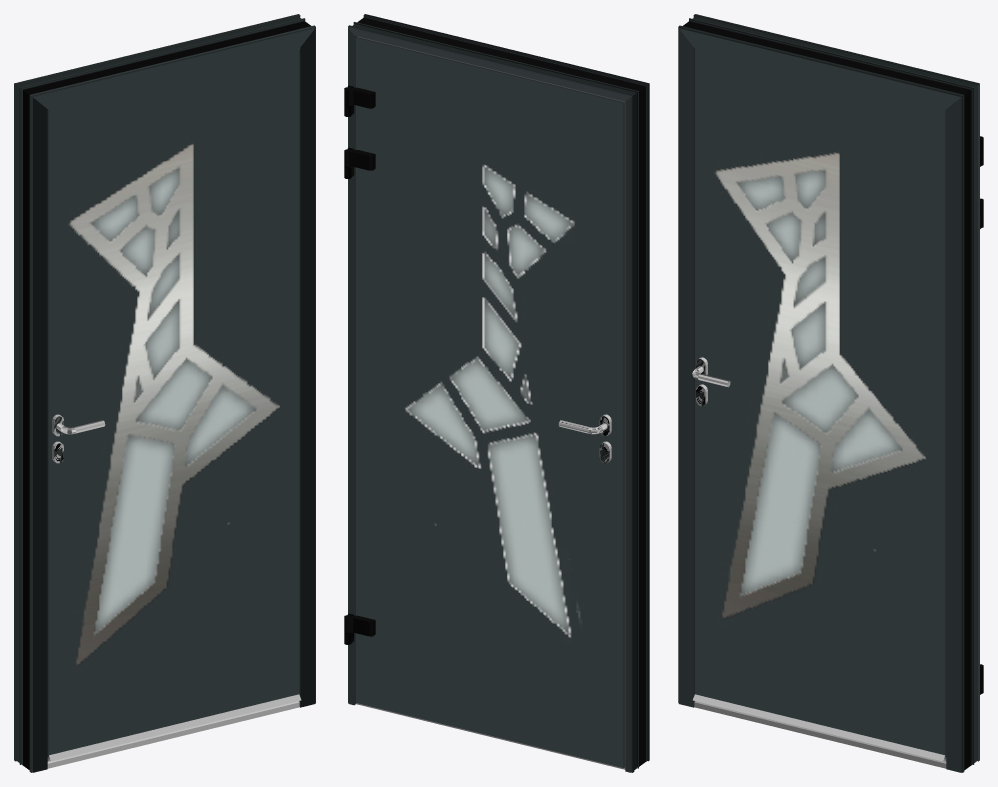
The picture shows the model from 3 angles, left to right: view 1: azimuth 30°, elevation 25°; view 2: azimuth 150°, elevation 25°; view 3: azimuth 330°, elevation 25°; orthographic projection.
Parts seen in each view (by area): view 1: ouvrant, 105; view 2: ouvrant, 105; view 3: ouvrant, 105.
Boxes of the visible parts, left/top/right/bottom form: ouvrant: left=47, top=48, right=301, bottom=761; 105: left=14, top=14, right=315, bottom=772; ouvrant: left=344, top=36, right=625, bottom=768; 105: left=344, top=14, right=649, bottom=772; ouvrant: left=693, top=48, right=983, bottom=761; 105: left=678, top=14, right=983, bottom=772.
Bounding box in the file's own units: 96 × 218 × 24.64.
Materials: 1 (1 with a texture image).
